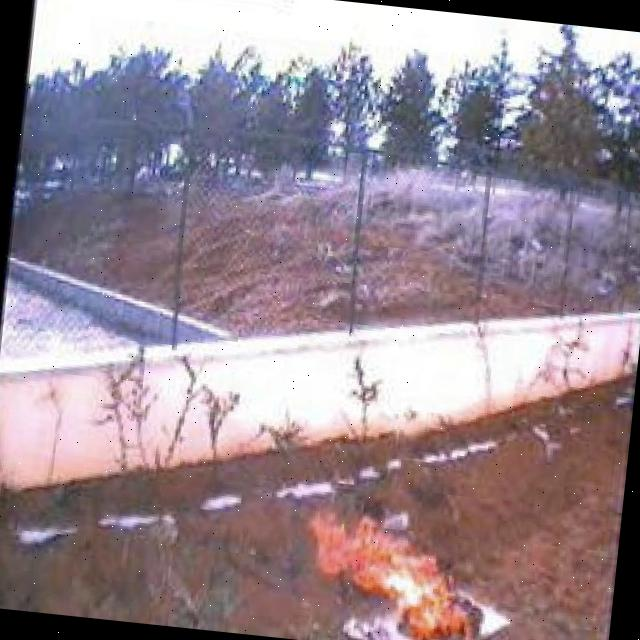fire: (289, 506, 493, 640)
